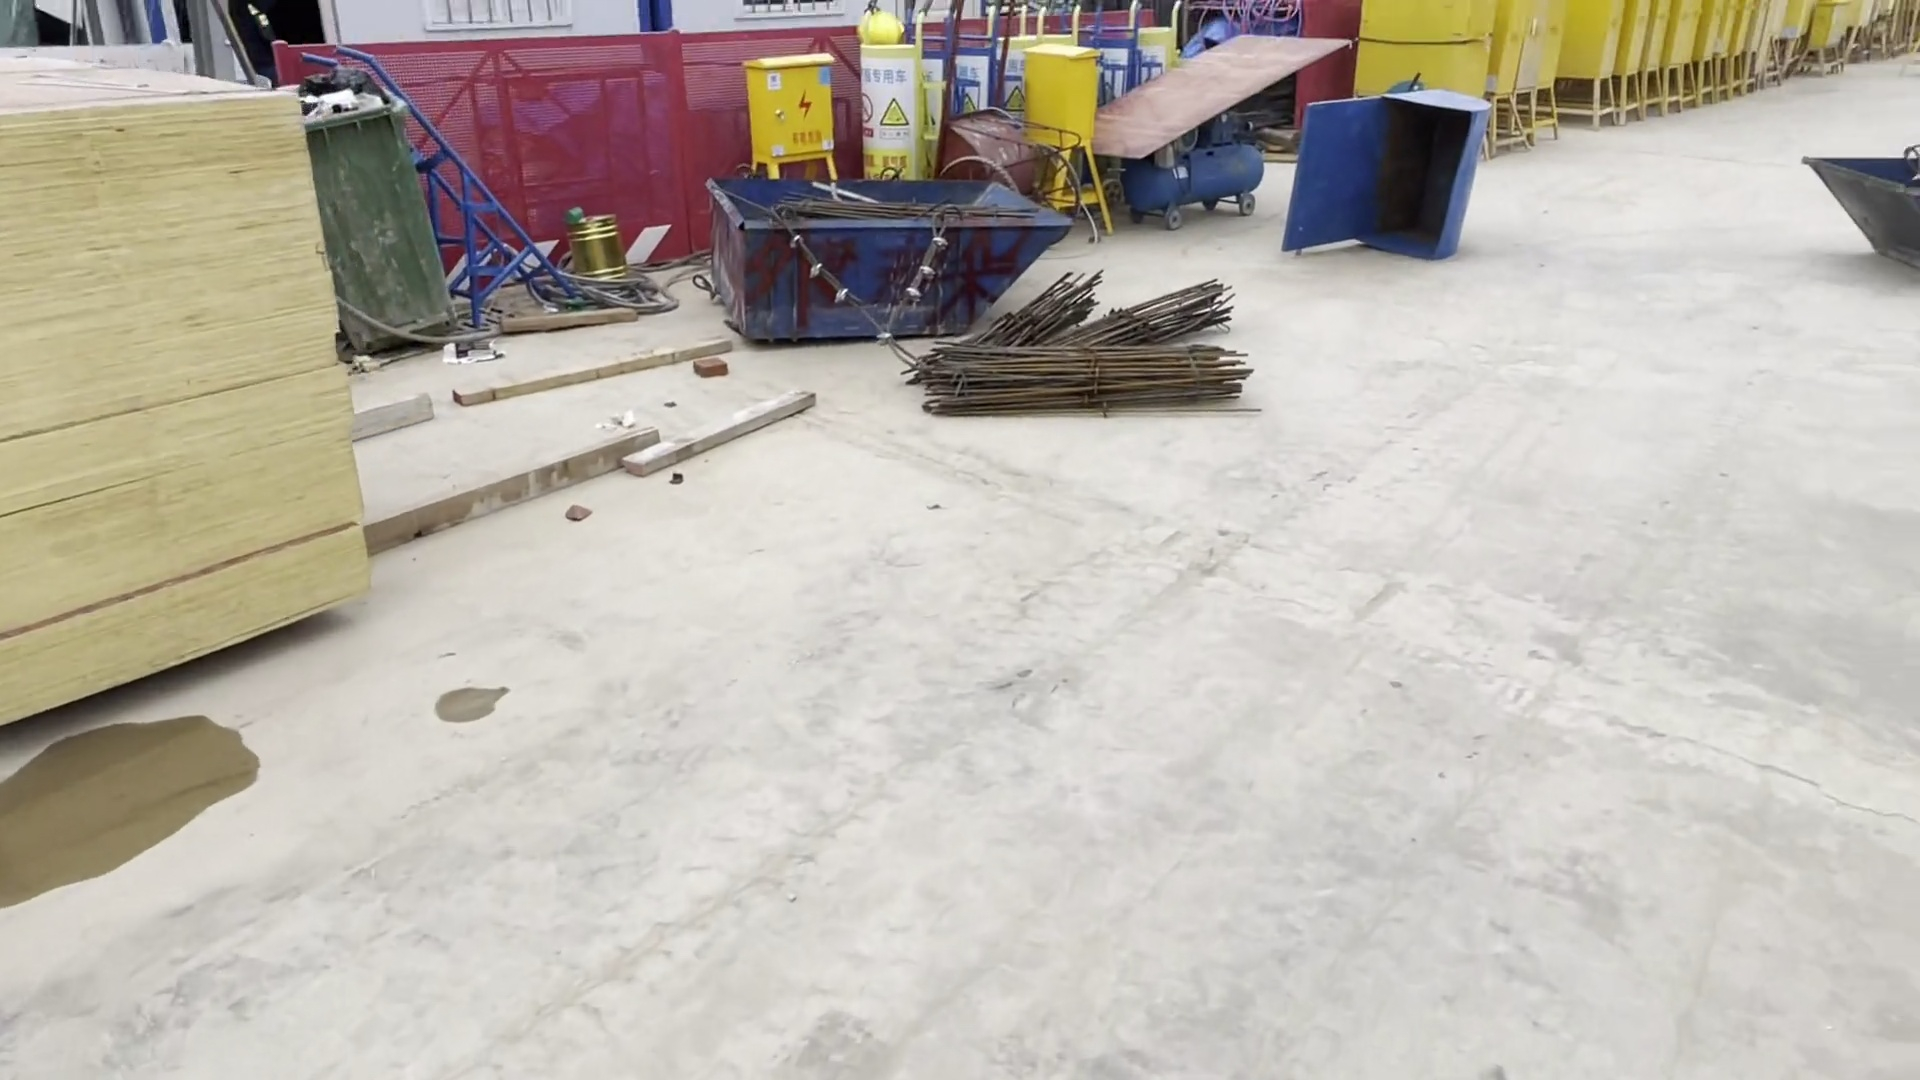ebox: (1023, 30, 1106, 225), (1366, 1, 1487, 100), (748, 51, 839, 175)
handcart: (934, 22, 1089, 183)
hopper: (700, 179, 1069, 361)
